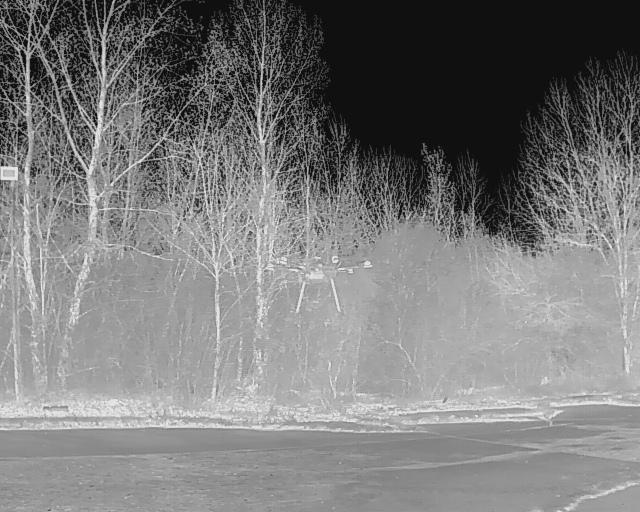drone: (251, 232, 380, 326)
